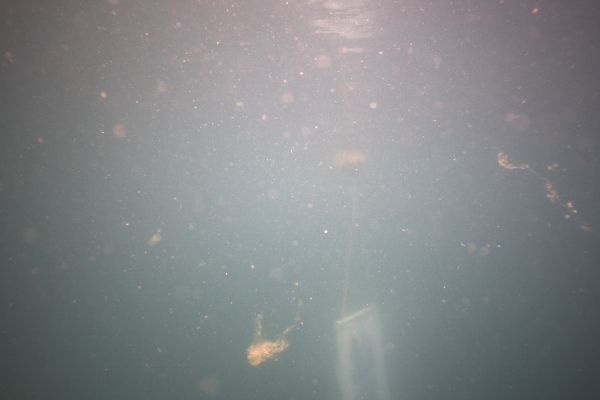torpille: (337, 306, 387, 399)
